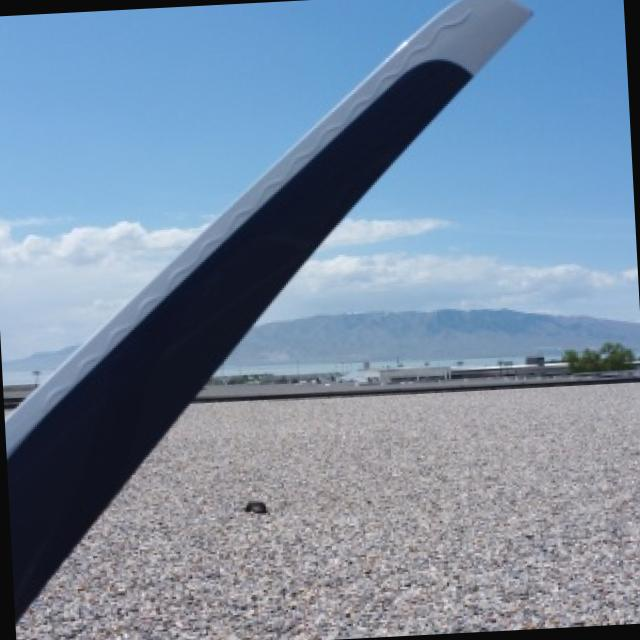healthy: (5, 0, 528, 616), (16, 386, 640, 640)
